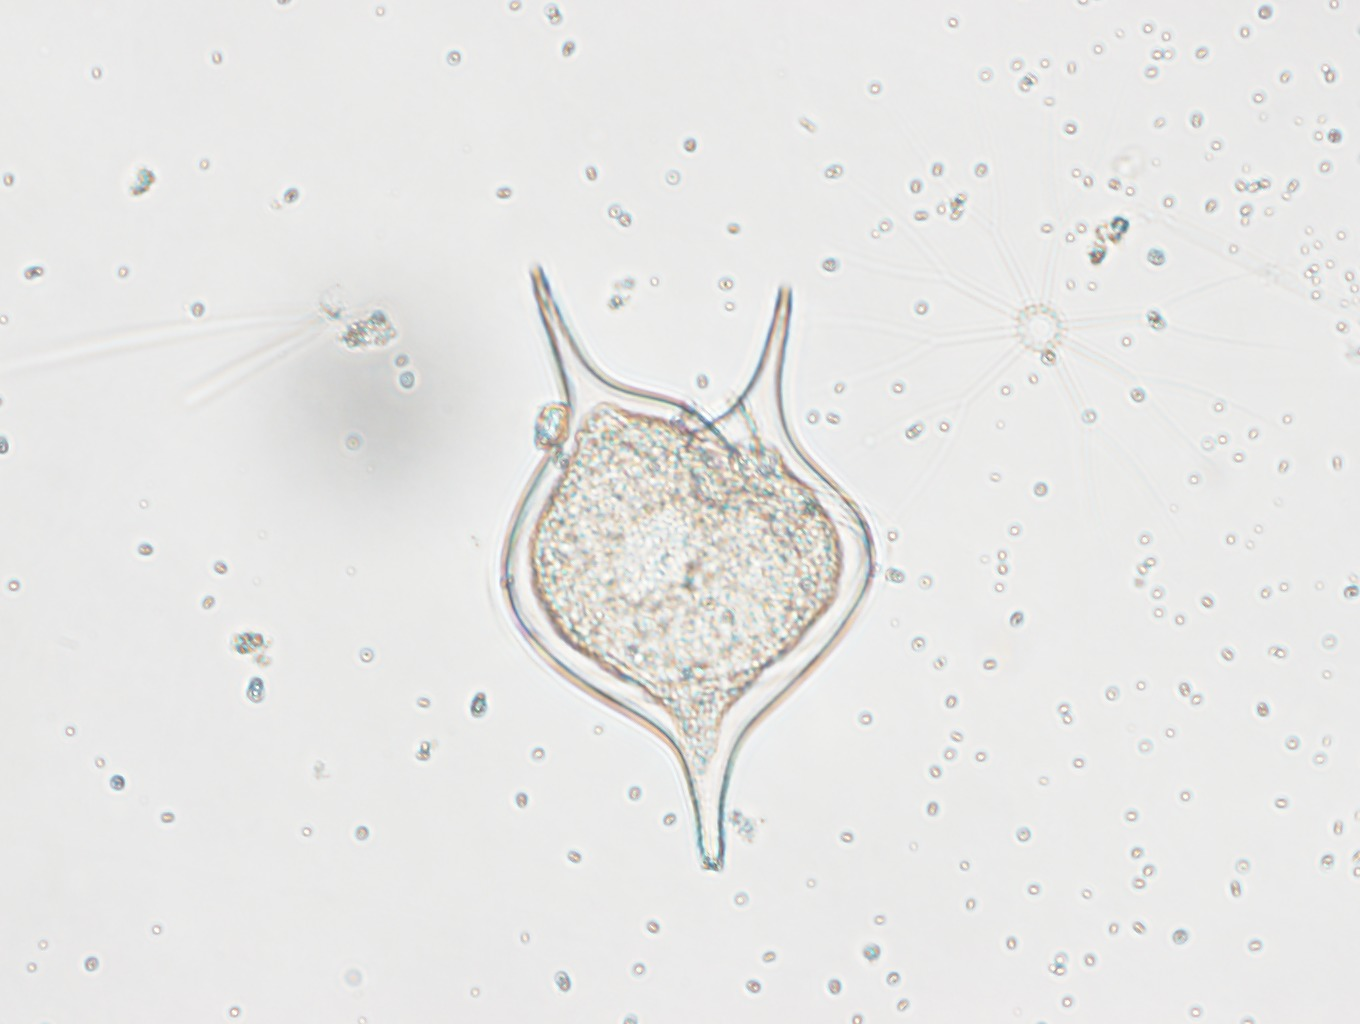protoperidinium: (501, 261, 875, 871)
